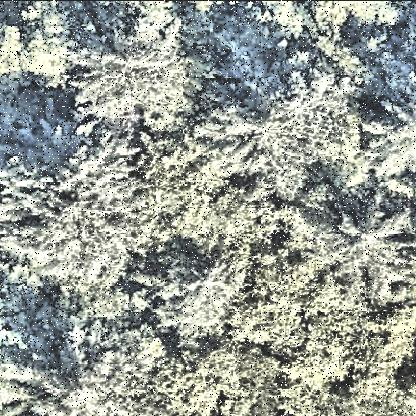tree-top: (27, 127, 143, 293), (212, 53, 341, 183), (67, 5, 191, 127), (35, 343, 176, 416), (158, 239, 240, 337), (323, 204, 415, 290), (359, 68, 416, 182), (2, 1, 72, 90), (261, 1, 345, 39)
